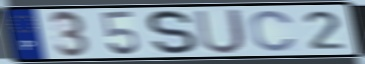2: (302, 10, 348, 51)
3: (48, 8, 91, 59)
5: (99, 10, 140, 56)
C: (248, 9, 299, 54)
S: (144, 8, 199, 57)
U: (192, 7, 248, 56)
